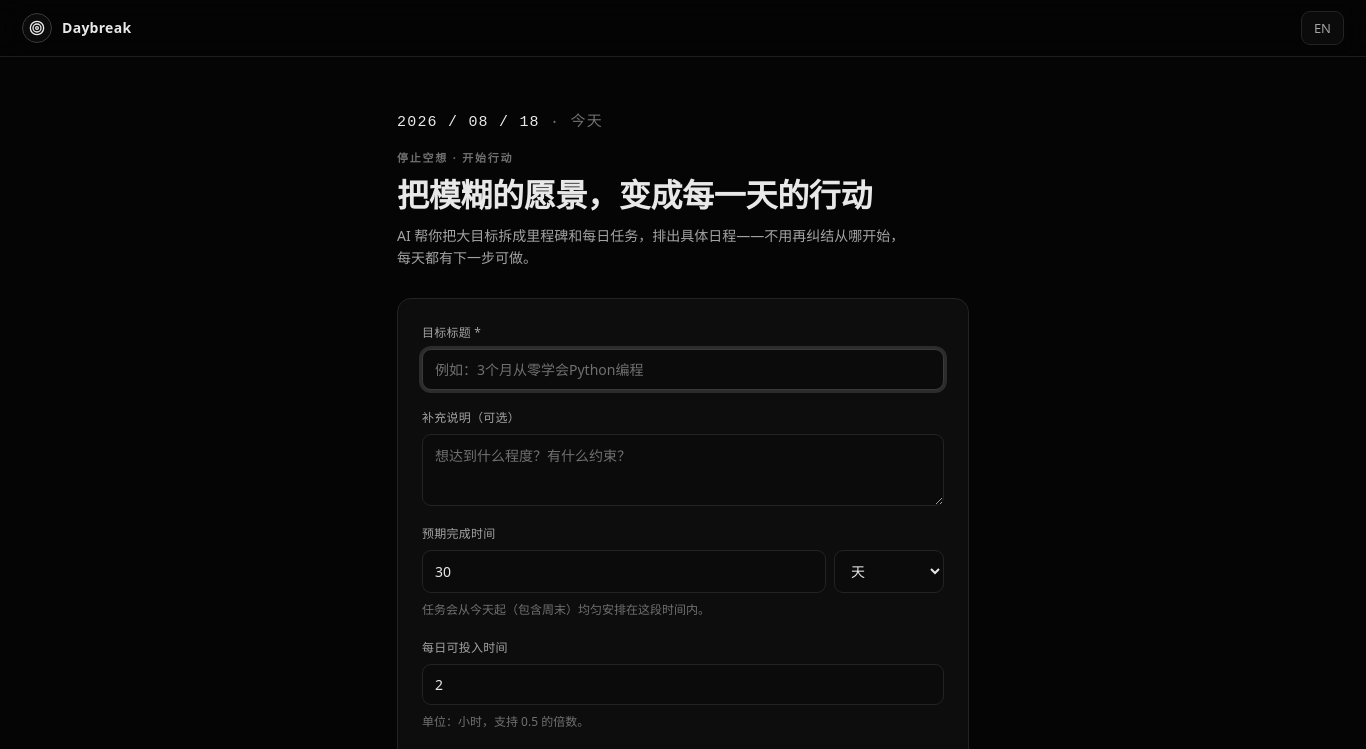
GoalInput duration scheduling › rejects daily hours that are an empty value
Type "学习 Python" into the field labelled "目标标题 *". click: (683, 370)
box: [422,349,944,390]
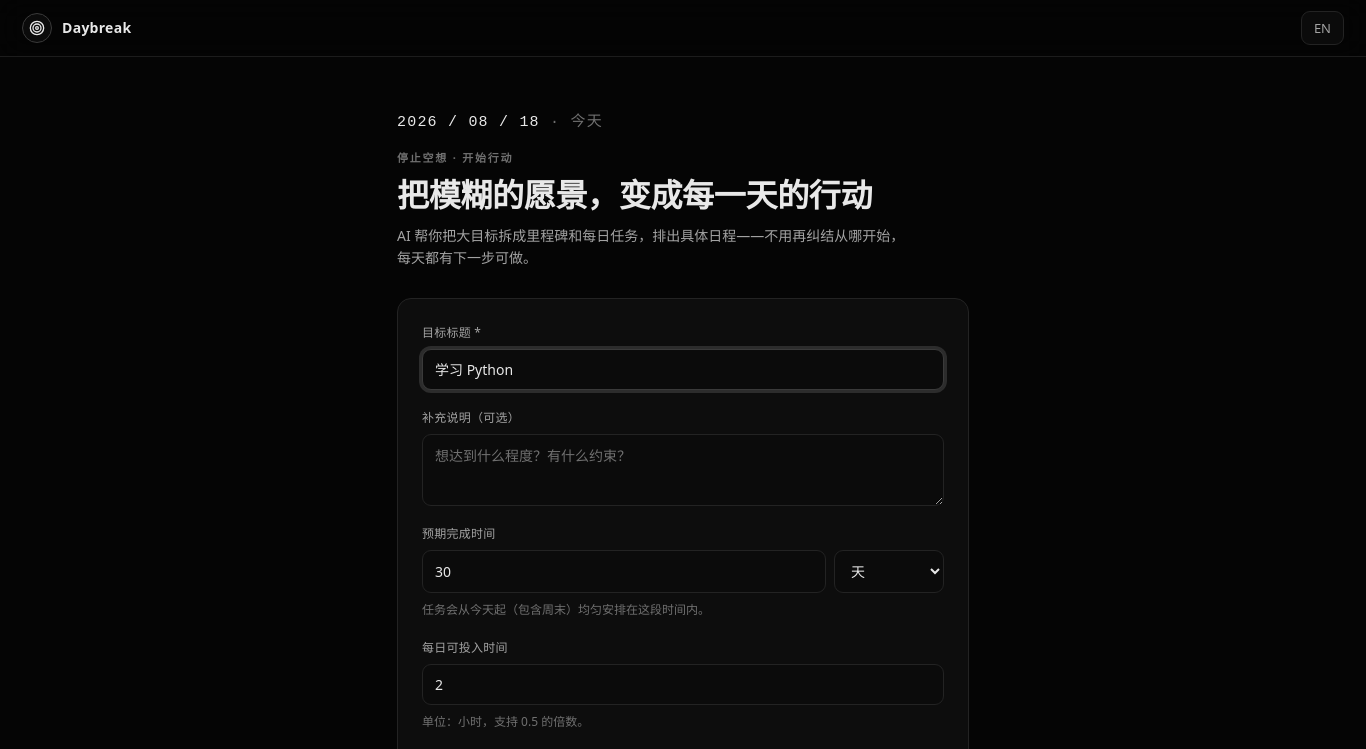
Clear the number field labelled "每日可投入时间". click: (683, 684)
box: [422,664,944,705]
(page scrolled)
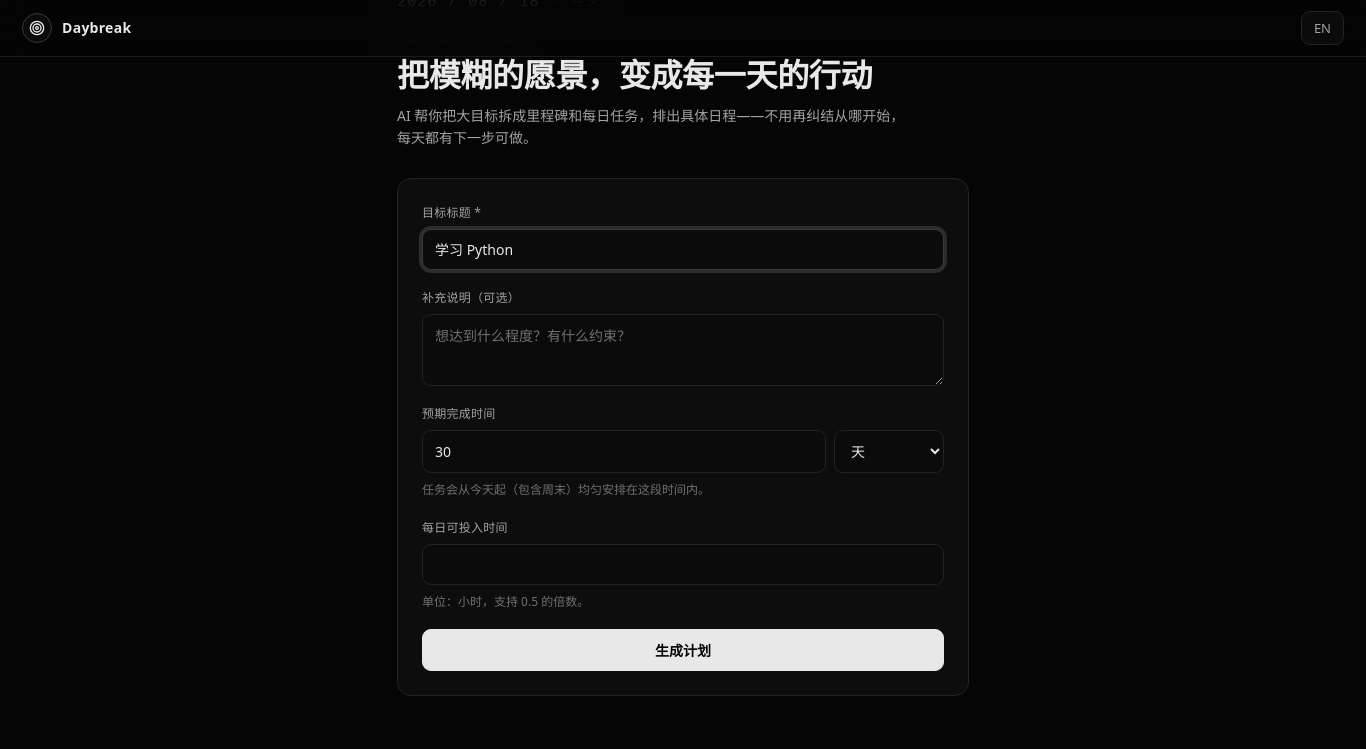
Click the button "生成计划". click: (683, 650)
box: [422,629,944,671]
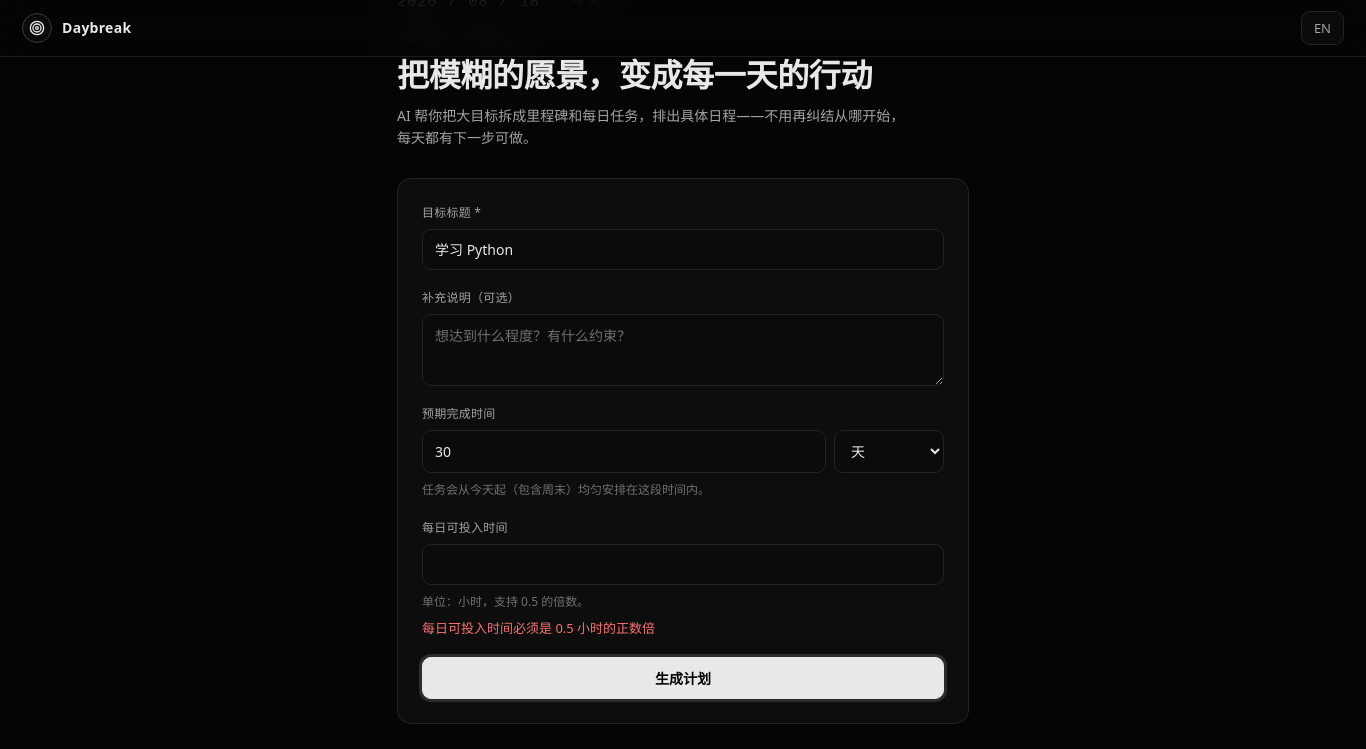
Check: the message reads "每日可投入时间必须是 0.5 小时的正数倍", box [422,619,655,637]
